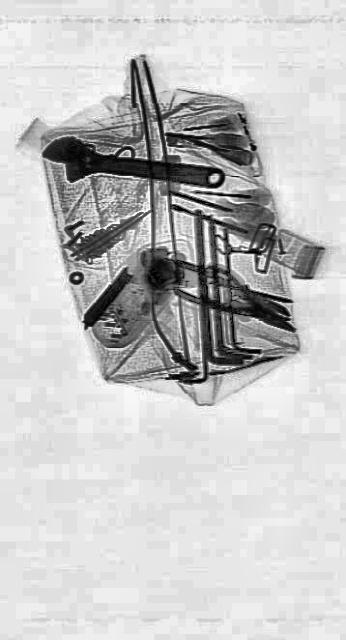Pliers: (168, 250, 296, 346)
Wrench: (39, 130, 223, 198)
